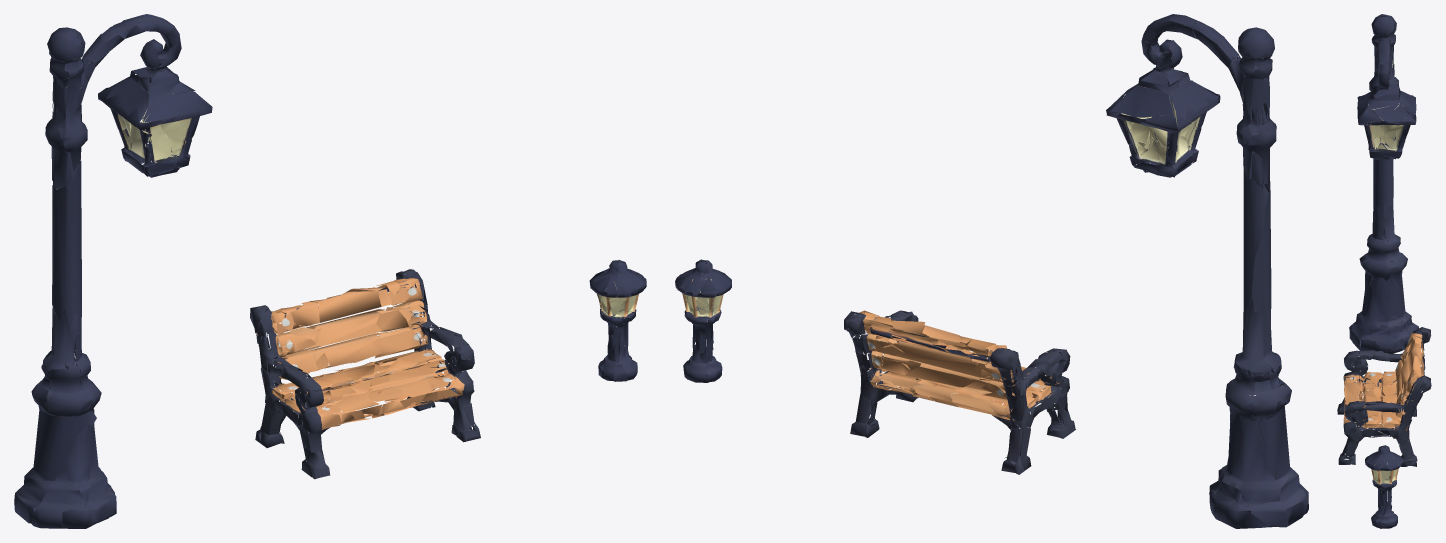
Rendered from props3.glb.
The picture shows the model from 3 angles, left to right: view 1: azimuth 30°, elevation 25°; view 2: azimuth 150°, elevation 25°; view 3: azimuth 270°, elevation 25°; orthographic projection. The views are drawn at different scales.
Parts seen in each view (by area): view 1: lamp, bench, plight; view 2: lamp, bench, plight; view 3: lamp, bench, plight.
Part boxes in pixels (box(x1,y1,x2,y2)): lamp: box(14, 14, 212, 528); bench: box(250, 269, 480, 479); plight: box(589, 260, 646, 381); lamp: box(1106, 14, 1308, 528); bench: box(844, 310, 1075, 474); plight: box(675, 259, 731, 382); lamp: box(1349, 14, 1418, 353); bench: box(1337, 327, 1431, 466); plight: box(1365, 445, 1403, 528).
Size of the model in its own units: 4.86 by 3.6 by 0.9433.
1 material, 1 textured.
